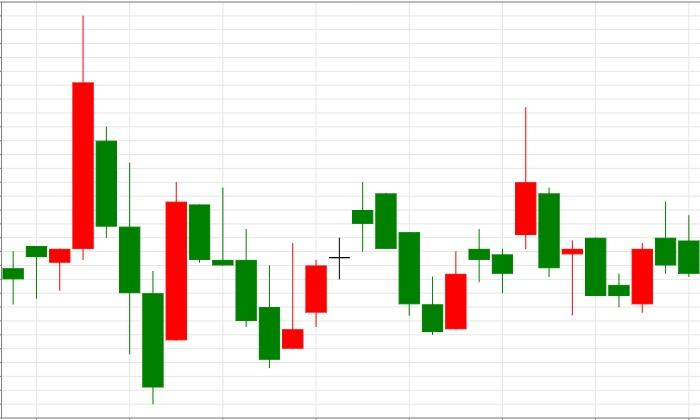inverse_hammer_rise: (189, 187, 304, 369)
three_black_crows_fall: (2, 16, 163, 403)
